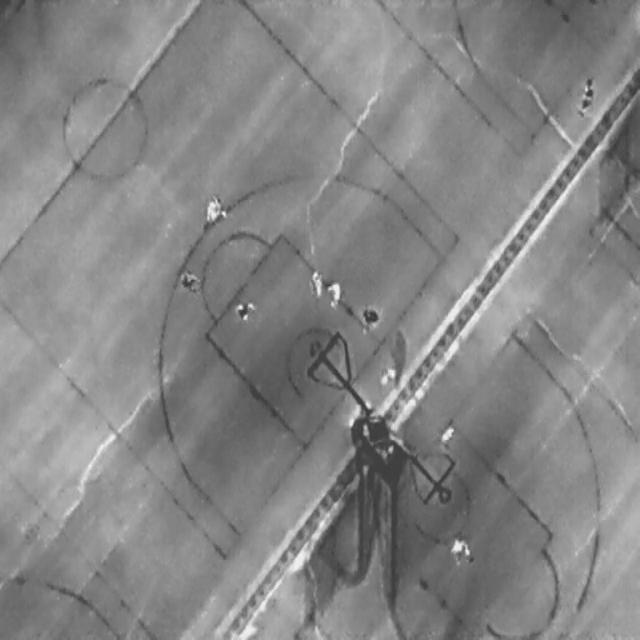Person: (575, 70, 596, 116), (435, 416, 458, 449), (451, 532, 470, 568), (233, 295, 255, 323), (205, 194, 224, 225), (361, 302, 378, 334), (179, 265, 197, 294), (327, 276, 341, 309), (309, 265, 321, 297)
